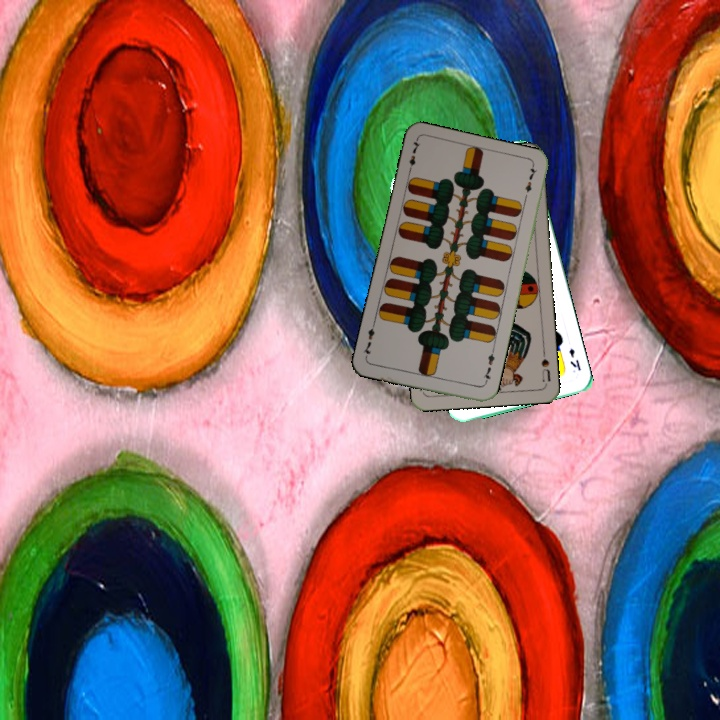E7: (404, 136, 423, 176), (479, 347, 497, 387)
EK: (565, 344, 584, 373)
SU: (537, 346, 553, 386)
